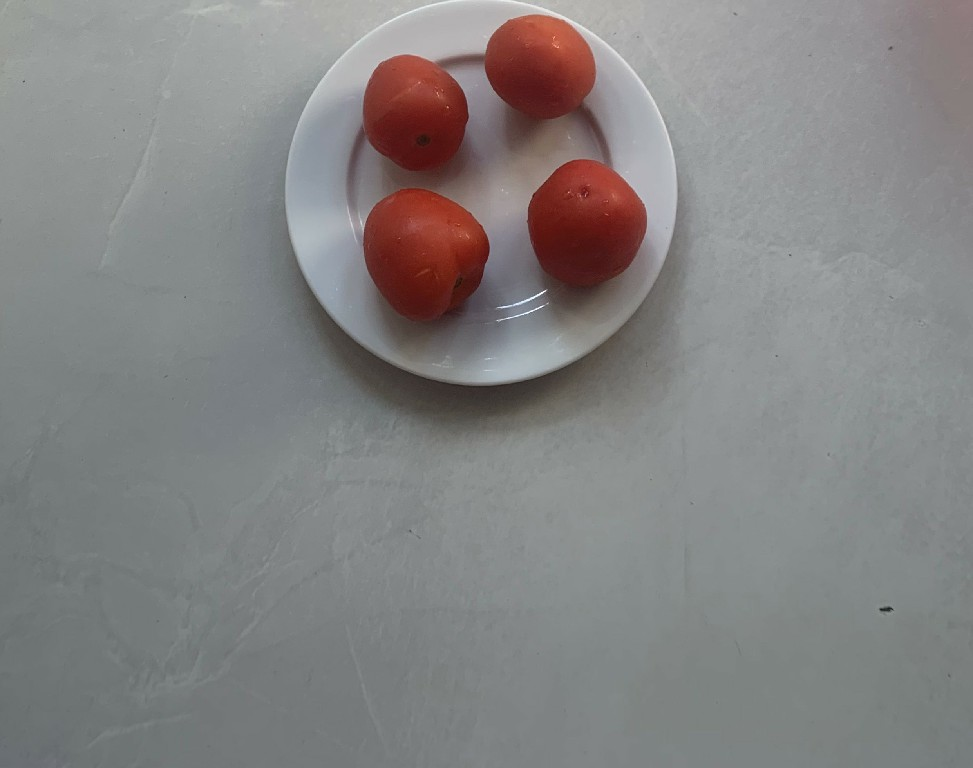OK: (359, 184, 488, 324), (528, 155, 646, 286), (483, 11, 595, 121), (362, 55, 467, 161)
